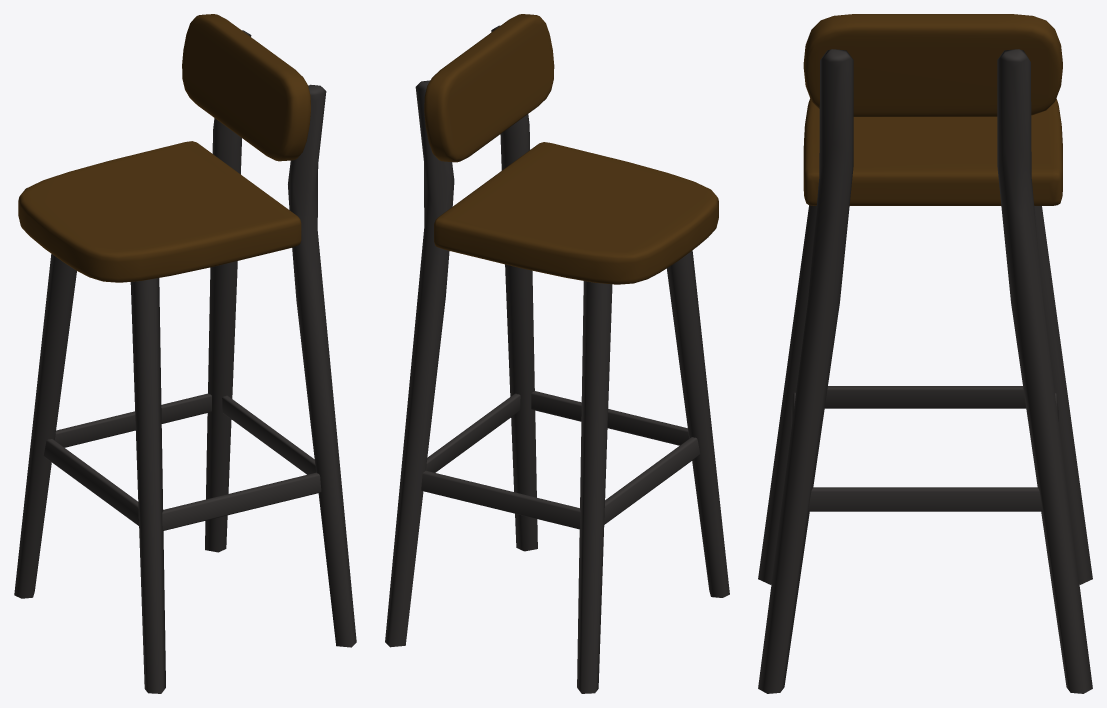
File: barstool_02.fbx
3 renders of one model, left to right at view 1: azimuth 30°, elevation 25°; view 2: azimuth 150°, elevation 25°; view 3: azimuth 270°, elevation 25°, orthographic. The views are drawn at different scales.
Visible parts, largest first — view 1: barstool_02; view 2: barstool_02; view 3: barstool_02.
Boxes of the visible parts, <box> form: barstool_02: <box>14,14,356,693</box>; barstool_02: <box>385,14,729,693</box>; barstool_02: <box>758,14,1092,693</box>.
Size of the model in its own units: 46.36 by 104 by 48.11.
Materials: 2 (2 with a texture image).
